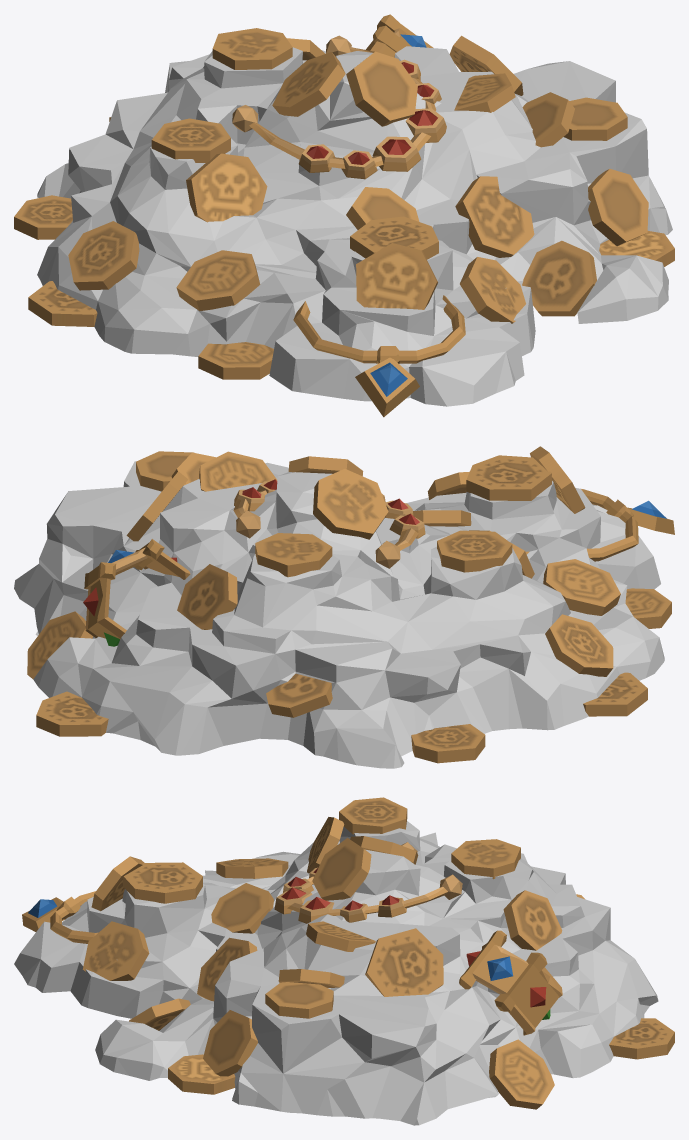
The model's file is SM_Prop_Treasure_Pile_02.fbx.
3 renders of one model, top to bottom at view 1: azimuth 30°, elevation 25°; view 2: azimuth 150°, elevation 25°; view 3: azimuth 270°, elevation 25°, orthographic. The views are drawn at different scales.
Visible parts, largest first — view 1: SM_Prop_Treasure_Pile_02; view 2: SM_Prop_Treasure_Pile_02; view 3: SM_Prop_Treasure_Pile_02.
Boxes of the visible parts, bbox=[...] form: SM_Prop_Treasure_Pile_02: bbox=[14, 14, 674, 417]; SM_Prop_Treasure_Pile_02: bbox=[14, 446, 674, 768]; SM_Prop_Treasure_Pile_02: bbox=[14, 797, 674, 1125].
Bounding box in the file's own units: 75.78 × 24.43 × 80.56.
